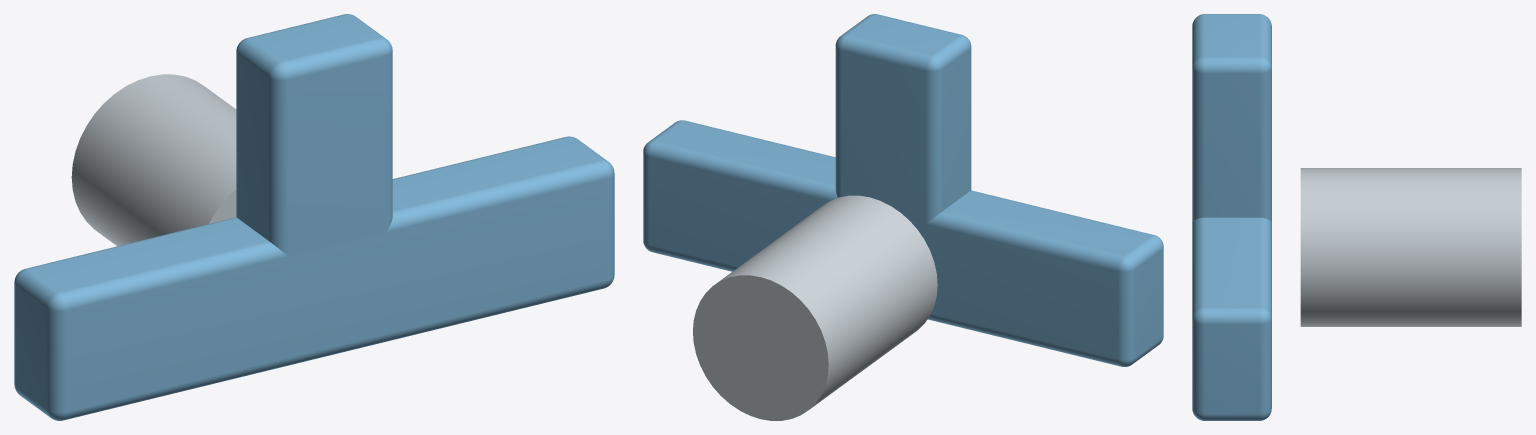
File: infusion_stopcock_before_union.glb
3 renders of one model, left to right at view 1: azimuth 30°, elevation 25°; view 2: azimuth 150°, elevation 25°; view 3: azimuth 270°, elevation 25°, orthographic. The views are drawn at different scales.
Parts seen in each view (by area): view 1: STOPCOCK/0001_handle, STOPCOCK/0002_pointer, STOPCOCK/0000_rotor; view 2: STOPCOCK/0001_handle, STOPCOCK/0000_rotor, STOPCOCK/0002_pointer; view 3: STOPCOCK/0000_rotor, STOPCOCK/0002_pointer, STOPCOCK/0001_handle.
Boxes of the visible parts, x1=… form: STOPCOCK/0001_handle: x1=14, y1=136, x2=614, y2=420; STOPCOCK/0002_pointer: x1=236, y1=14, x2=392, y2=334; STOPCOCK/0000_rotor: x1=71, y1=74, x2=236, y2=246; STOPCOCK/0001_handle: x1=643, y1=120, x2=1163, y2=366; STOPCOCK/0000_rotor: x1=693, y1=195, x2=937, y2=420; STOPCOCK/0002_pointer: x1=835, y1=14, x2=971, y2=224; STOPCOCK/0000_rotor: x1=1300, y1=168, x2=1521, y2=326; STOPCOCK/0002_pointer: x1=1192, y1=14, x2=1271, y2=222; STOPCOCK/0001_handle: x1=1192, y1=217, x2=1271, y2=420.
Bounding box in the file's own units: 0.065 × 0.0354 × 0.0373.
